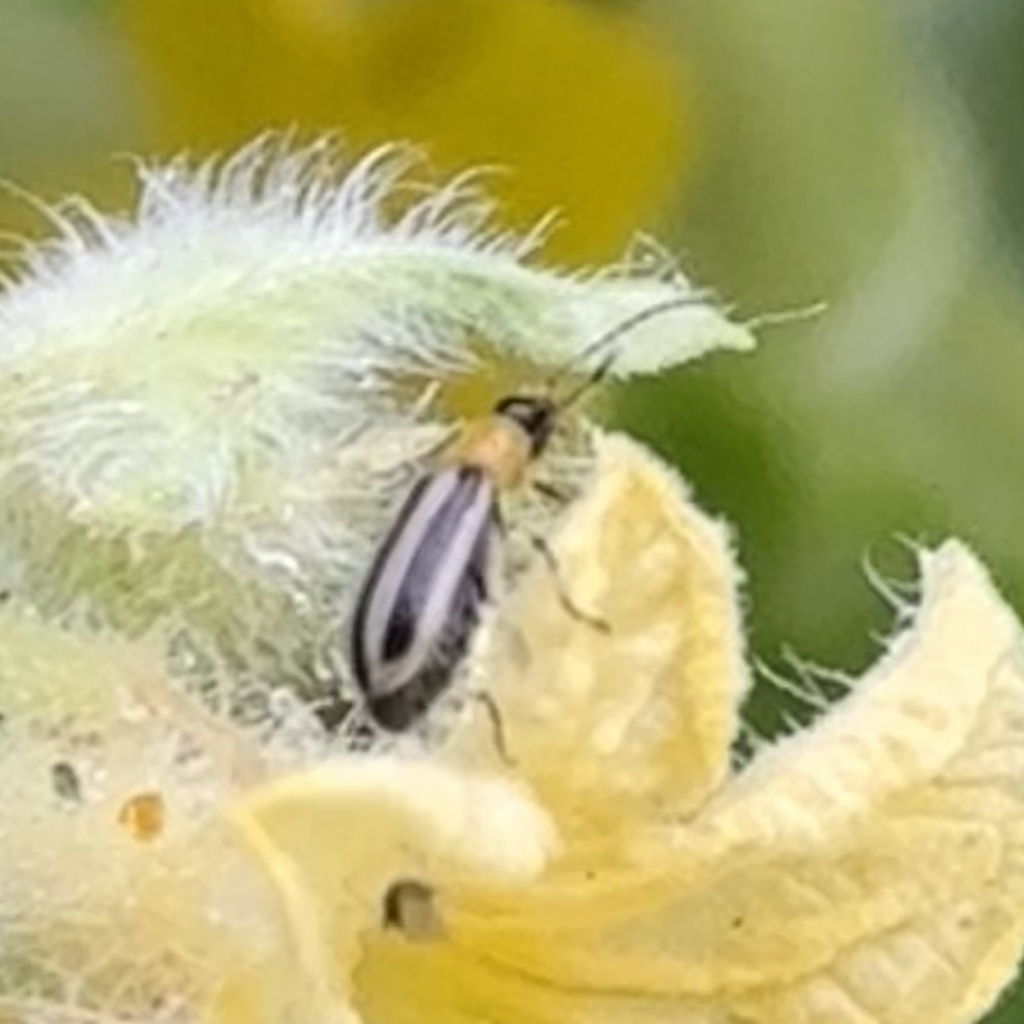potato_beetle: (152, 187, 826, 853)
